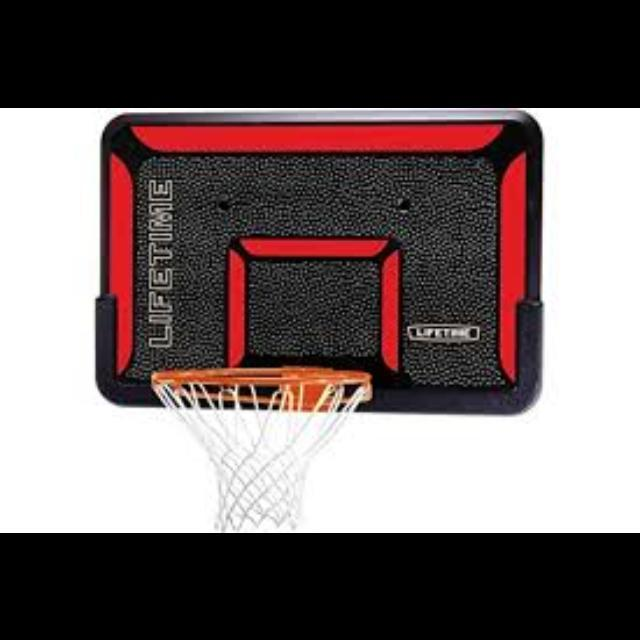rim: (150, 370, 370, 528)
